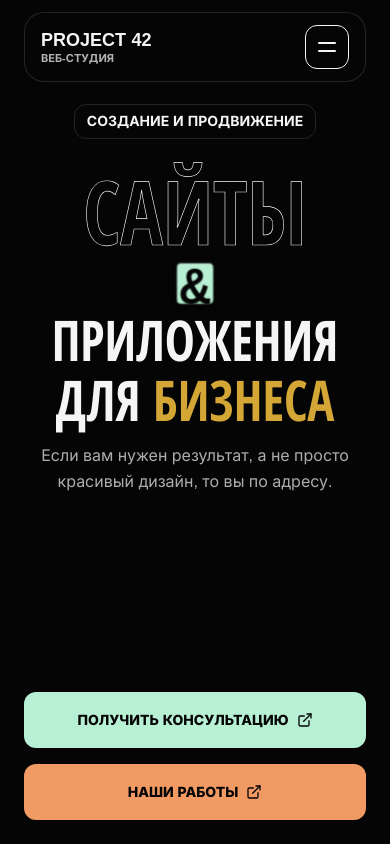
it: RazrabotkaPage › toggles the mobile menu button state
Click the button named "Открыть меню": (327, 47) [305, 25, 349, 69]
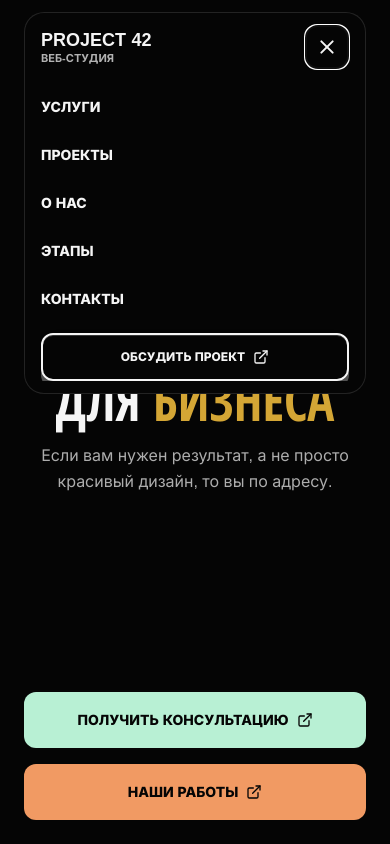
Expected: the button named "Закрыть меню" is expanded, [305, 25, 349, 69]
